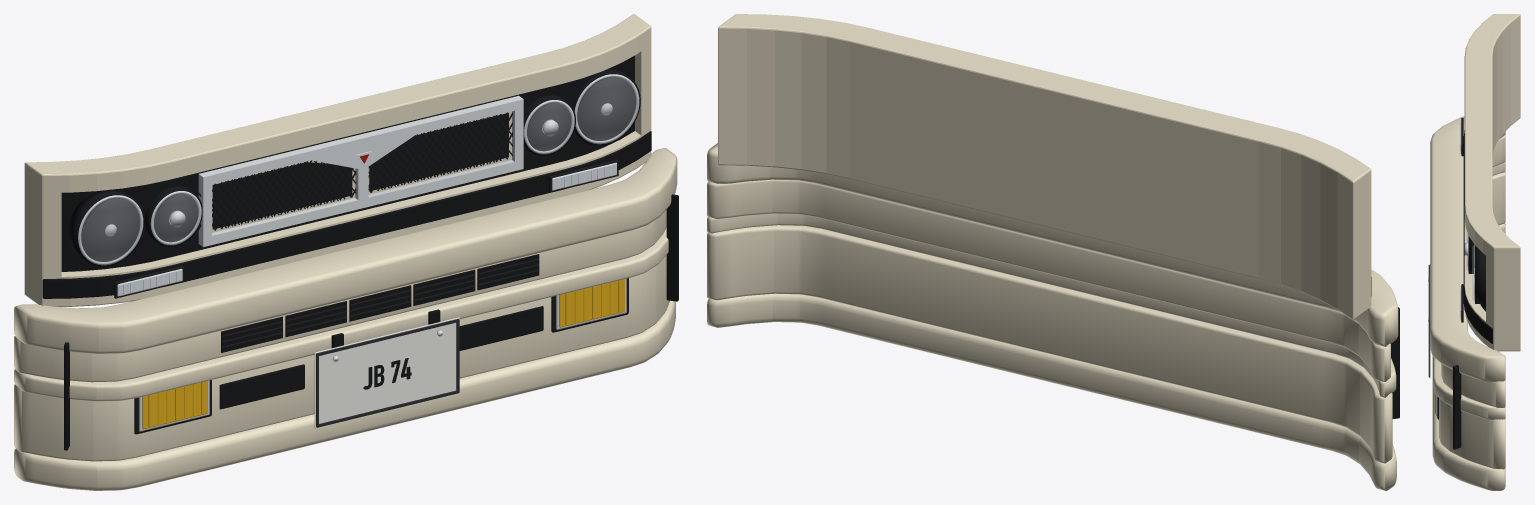
File: face_damd_delta.glb
3 renders of one model, left to right at view 1: azimuth 30°, elevation 25°; view 2: azimuth 150°, elevation 25°; view 3: azimuth 270°, elevation 25°, orthographic. The views are drawn at different scales.
Parts seen in each view (by area): view 1: frame.002, beam.001, lowerBand, lip, ledge, shield, slotBand, strip, plate.004, face_damd_delta, carrier, slots (+20 smaller); view 2: frame.002, lowerBand, slotBand, lip, beam.001, ledge; view 3: frame.002, beam.001, lowerBand, lip, slotBand, ledge, strip, endSlit1, cup1565, cup1425, plate.004.
Boxes of the visible parts, x1,y1,x2,y2 form: frame.002: (24, 14, 651, 306); beam.001: (14, 148, 677, 353); lowerBand: (14, 255, 669, 461); lip: (14, 300, 675, 490); ledge: (14, 227, 668, 401); shield: (198, 95, 523, 246); slotBand: (14, 209, 666, 382); strip: (42, 131, 651, 298); plate.004: (314, 317, 459, 428); face_damd_delta: (212, 113, 508, 229); carrier: (61, 55, 634, 271); slots: (221, 254, 539, 352); frame.002: (718, 14, 1371, 319); lowerBand: (707, 225, 1392, 463); slotBand: (707, 179, 1390, 381); lip: (707, 293, 1396, 490); beam.001: (707, 143, 1398, 346); ledge: (707, 213, 1396, 397); frame.002: (1464, 14, 1520, 351); beam.001: (1430, 116, 1505, 381); lowerBand: (1439, 171, 1505, 469); lip: (1432, 223, 1505, 490); slotBand: (1441, 134, 1505, 407); ledge: (1433, 161, 1505, 419); strip: (1463, 130, 1492, 343); endSlit1: (1453, 365, 1461, 449); cup1565: (1475, 245, 1485, 303); cup1425: (1468, 236, 1474, 273); plate.004: (1429, 264, 1430, 378).
Size of the model in its own units: 1.48 by 0.655 by 0.2328.
